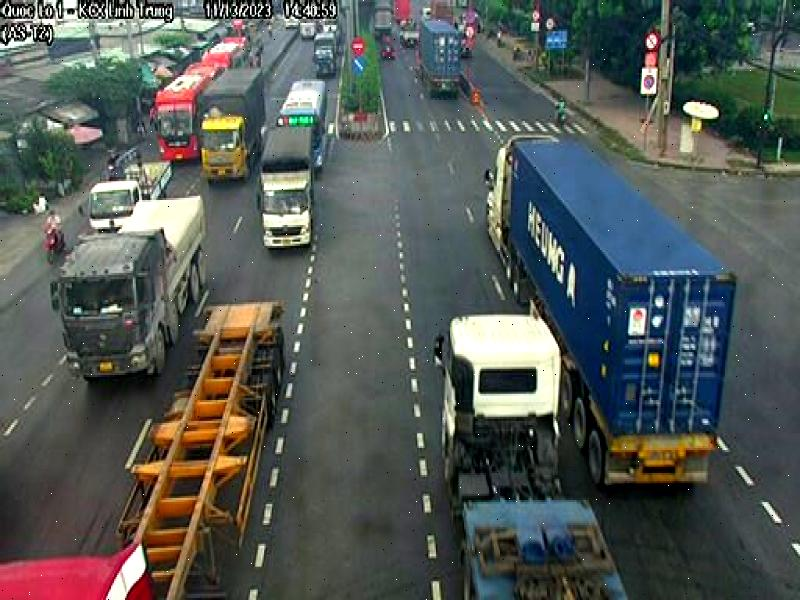bus: (149, 52, 218, 162), (279, 67, 328, 169)
truck: (484, 124, 736, 482), (436, 308, 631, 600), (61, 188, 210, 384), (201, 62, 272, 183), (262, 126, 314, 250)
